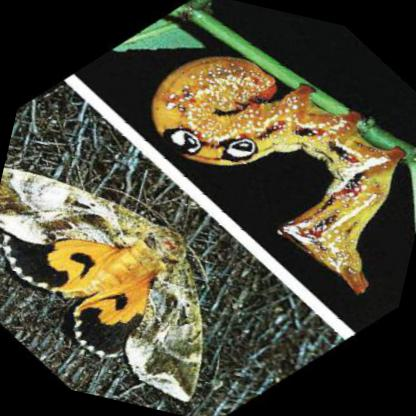fruit sucking moth: (0, 168, 202, 406)
